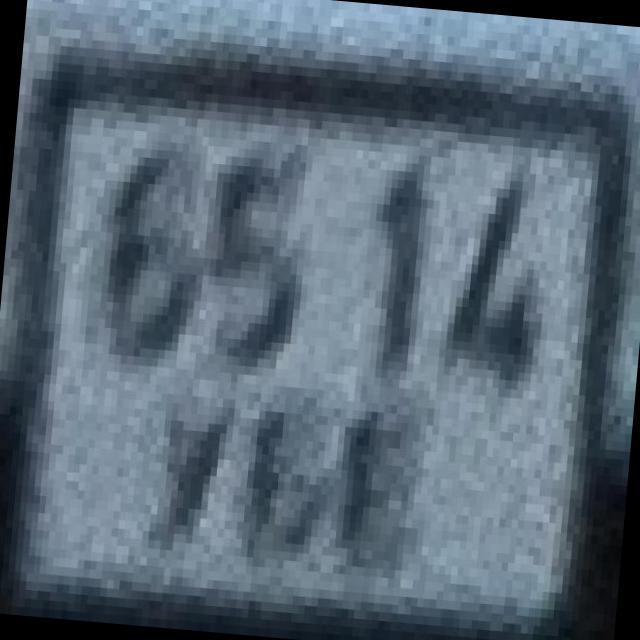0: (190, 362, 380, 584)
1: (325, 122, 451, 382)
4: (418, 131, 570, 383)
5: (176, 110, 328, 362)
6: (70, 109, 216, 370)
Y: (110, 364, 256, 556)
